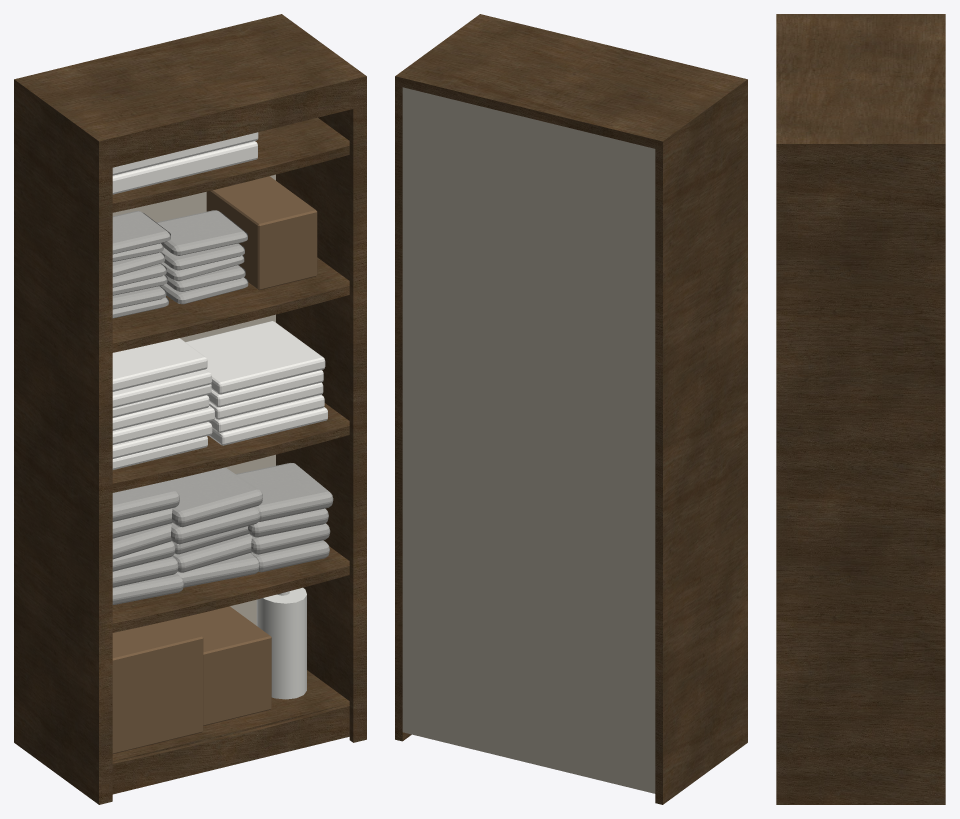
The model's file is linen_shelf.glb.
3 views of the same model, side by side, from view 1: azimuth 30°, elevation 25°; view 2: azimuth 150°, elevation 25°; view 3: azimuth 270°, elevation 25° (orthographic).
Parts seen in each view (by area): view 1: linen_shelf; view 2: linen_shelf; view 3: linen_shelf.
Boxes of the visible parts, x1,y1,x2,y2 form: linen_shelf: (14, 14, 366, 804); linen_shelf: (395, 14, 747, 804); linen_shelf: (776, 14, 945, 804).
Bounding box in the file's own units: 0.76 × 1.8 × 0.418.
Materials: 6 (2 with a texture image).
